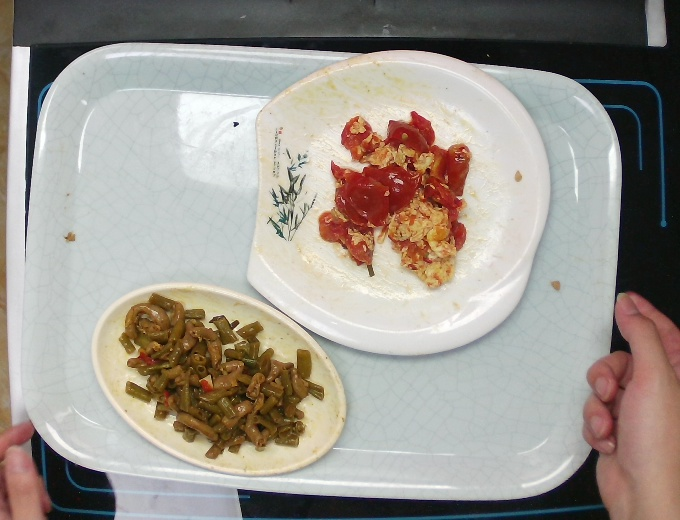JYsf-Mian_Pan: (243, 47, 554, 357)
JYsf-Tuo_Yuan_Wan: (87, 279, 349, 480)
